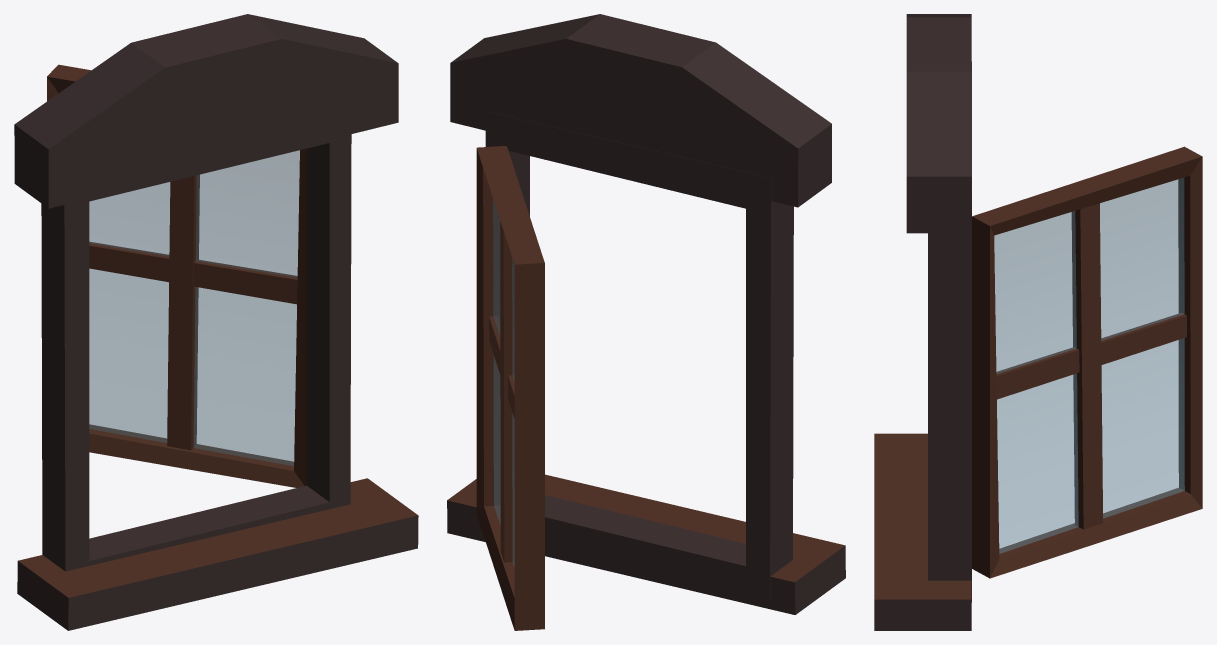
Rendered from Window 2x2 V4 Open v2.glb.
The picture shows the model from 3 angles, left to right: view 1: azimuth 30°, elevation 25°; view 2: azimuth 150°, elevation 25°; view 3: azimuth 270°, elevation 25°; orthographic projection. The views are drawn at different scales.
Parts seen in each view (by area): view 1: Window 2x2 V4 Open v2; view 2: Window 2x2 V4 Open v2; view 3: Window 2x2 V4 Open v2.
Boxes of the visible parts, left/top/right/bottom form: Window 2x2 V4 Open v2: left=14, top=14, right=418, bottom=630; Window 2x2 V4 Open v2: left=447, top=14, right=845, bottom=630; Window 2x2 V4 Open v2: left=874, top=14, right=1202, bottom=630.
Size of the model in its own units: 1.42 by 2.02 by 1.19.
2 materials, 2 textured.
